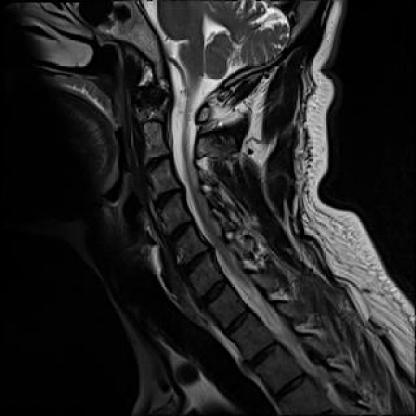Disc Bulgerotation: (174, 247, 218, 271), (160, 219, 200, 244)
Disc Protrusionrotation: (151, 189, 187, 208)
